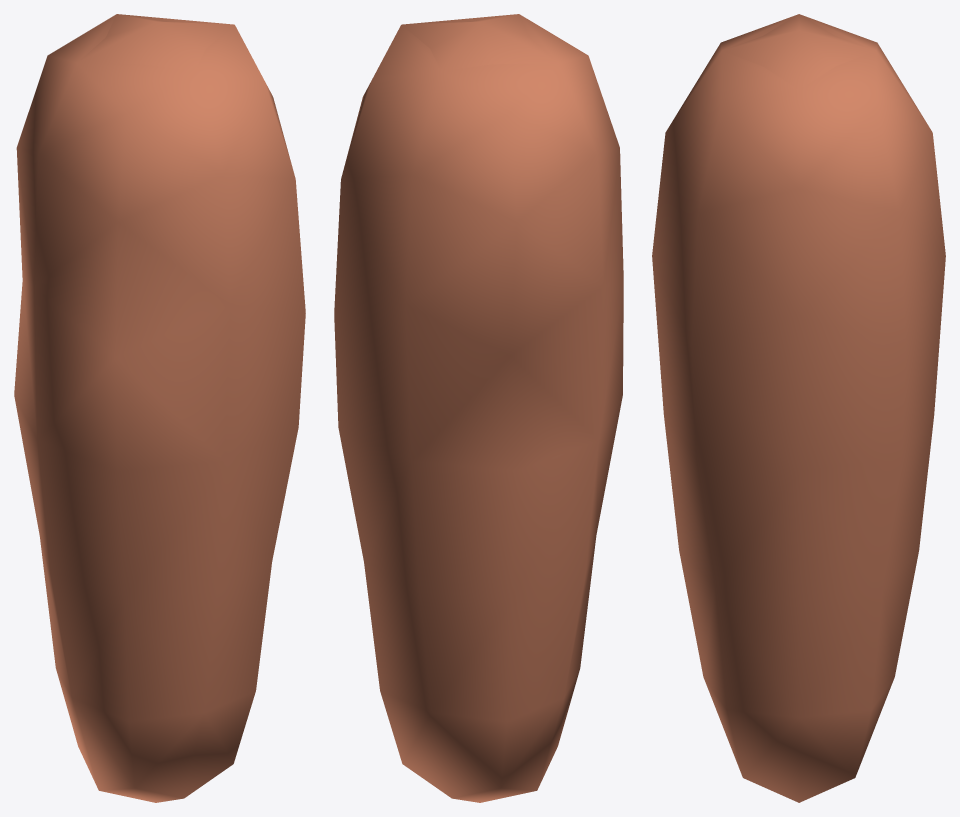
The model's file is lower_arm.dae.
The picture shows the model from 3 angles, left to right: view 1: azimuth 30°, elevation 25°; view 2: azimuth 150°, elevation 25°; view 3: azimuth 270°, elevation 25°; orthographic projection.
Parts seen in each view (by area): view 1: Plane; view 2: Plane; view 3: Plane.
Boxes of the visible parts, x1=… form: Plane: x1=14, y1=14, x2=305, y2=802; Plane: x1=334, y1=14, x2=623, y2=802; Plane: x1=652, y1=14, x2=945, y2=802.
Bounding box in the file's own units: 0.3488 × 0.3576 × 1.04.
